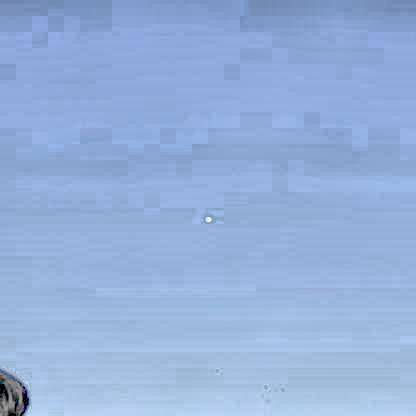golfball: (202, 211, 212, 221)
